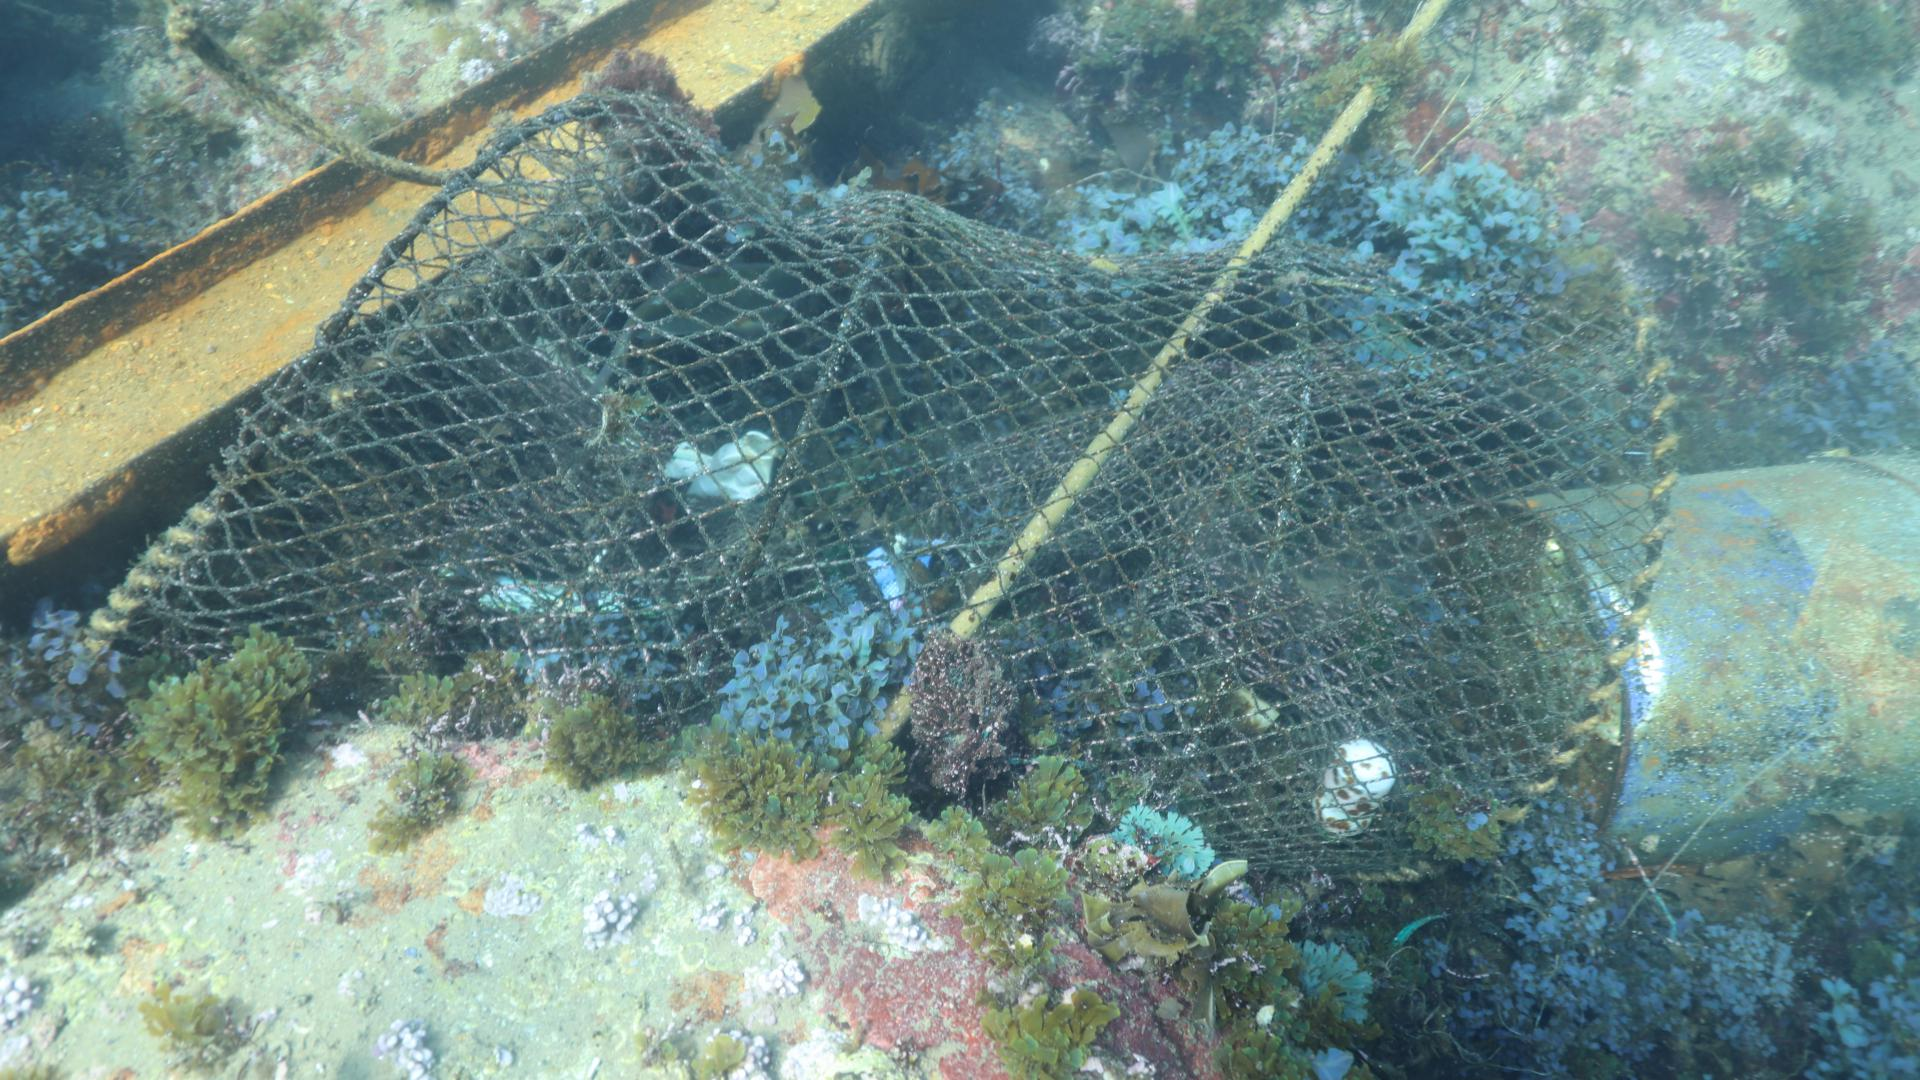spring fish trap: (76, 88, 1680, 884)
